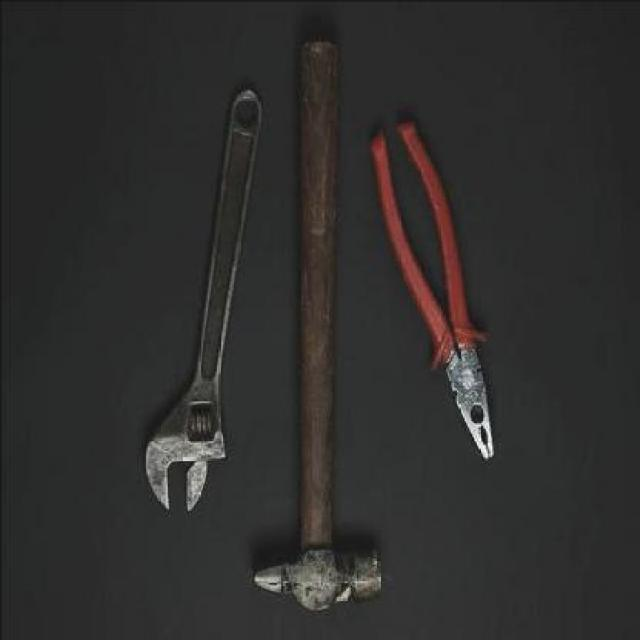pliers: (357, 107, 503, 462)
